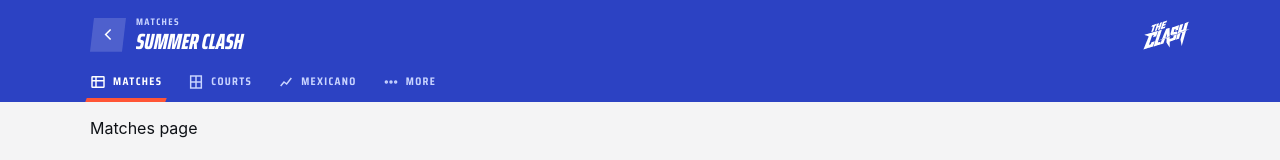
Test case: carries the Matches filters to Matches and More only; Courts and Mexicano get the tournament's name alone
The width and height of the screenshot is (1280, 160).
# Over on Courts, the way back to Matches (and on to More) still has the filters.
Click the link "Courts" at (220, 82), box [188,73,252,90]
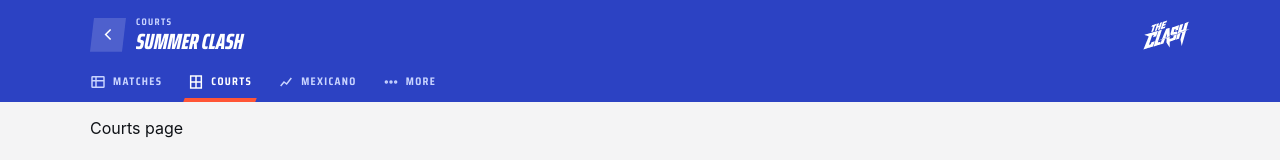
Expected: the text "Courts page" is shown, [90,118,183,138]
